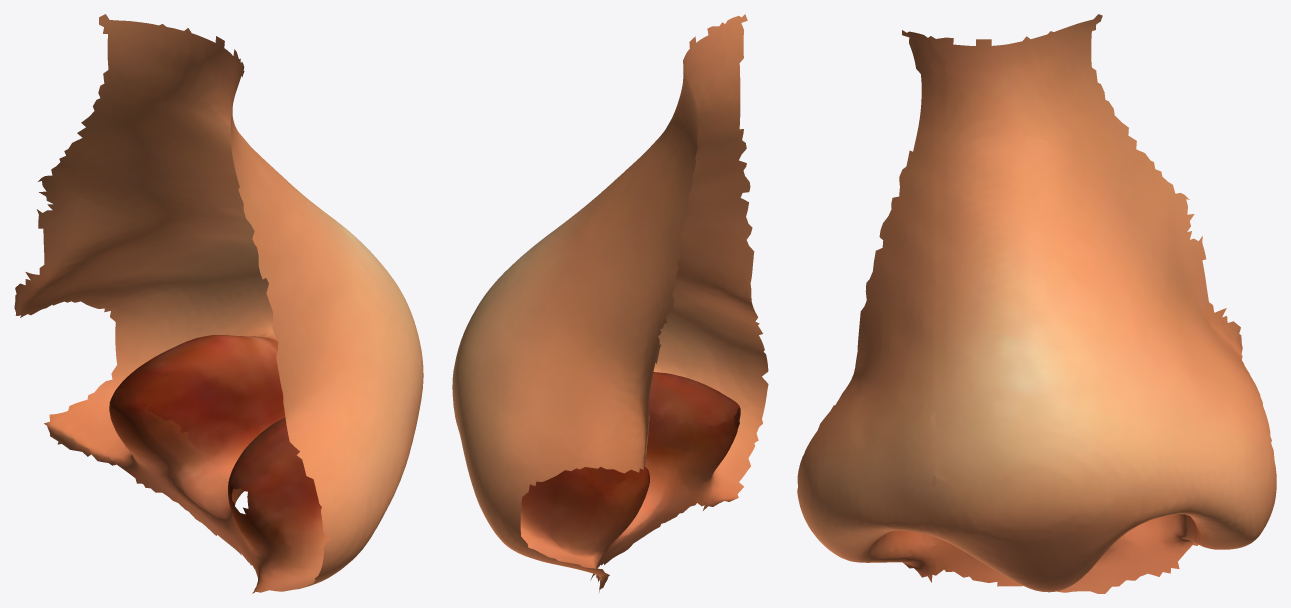
The model's file is COLLIDER_NOSE.glb.
3 views of the same model, side by side, from view 1: azimuth 30°, elevation 25°; view 2: azimuth 150°, elevation 25°; view 3: azimuth 270°, elevation 25° (orthographic). The views are drawn at different scales.
Visible parts, largest first — view 1: tripo_node_9bab15ef-14f4-426d-8081-19d1b5f2643f; view 2: tripo_node_9bab15ef-14f4-426d-8081-19d1b5f2643f; view 3: tripo_node_9bab15ef-14f4-426d-8081-19d1b5f2643f.
Part boxes in pixels (box(x1,y1,x2,y2)): tripo_node_9bab15ef-14f4-426d-8081-19d1b5f2643f: box(14, 14, 423, 593); tripo_node_9bab15ef-14f4-426d-8081-19d1b5f2643f: box(452, 14, 768, 592); tripo_node_9bab15ef-14f4-426d-8081-19d1b5f2643f: box(797, 14, 1276, 593).
Bounding box in the file's own units: 0.0838 × 0.149 × 0.1203.
1 material, 1 textured.
